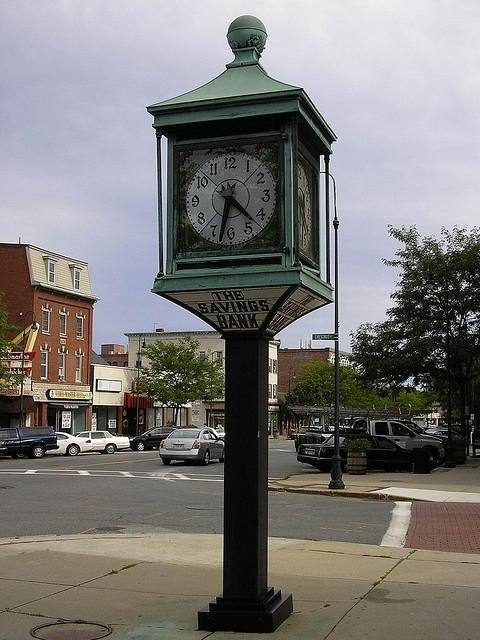car: (296, 436, 446, 474), (158, 427, 225, 466), (1, 426, 58, 458), (72, 431, 130, 455), (129, 427, 177, 451), (46, 432, 83, 457), (393, 421, 434, 436), (289, 426, 322, 440), (432, 431, 463, 438)
truck: (294, 420, 444, 466), (0, 426, 61, 460)
